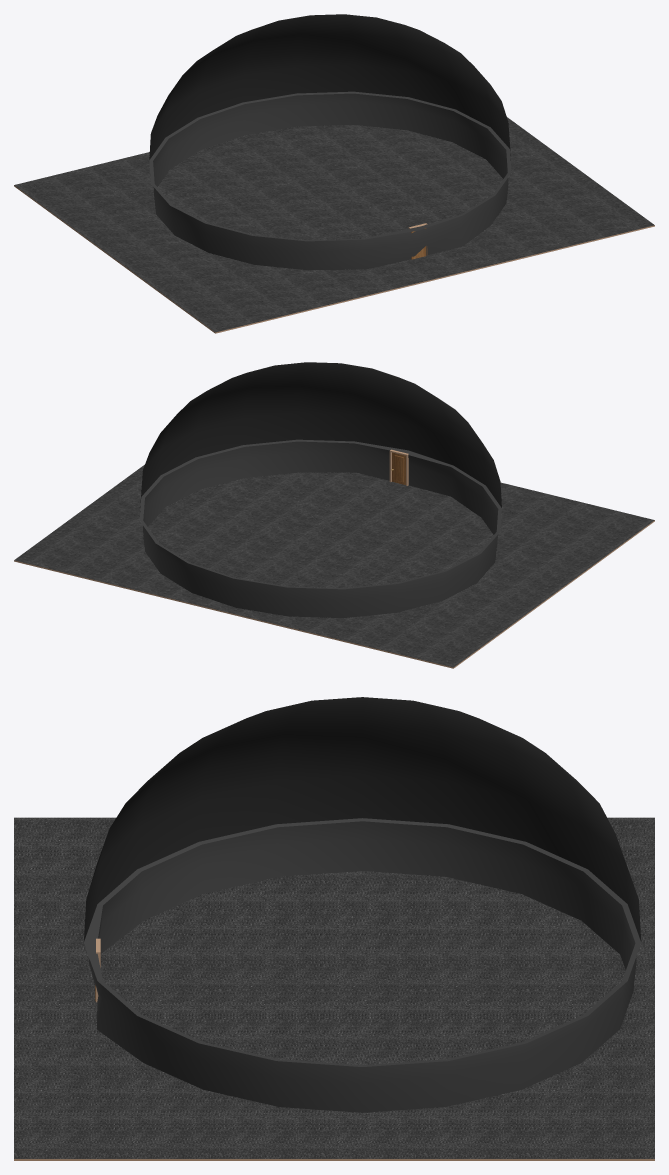
File: astronomy_room.fbx
3 views of the same model, one above another, from view 1: azimuth 30°, elevation 25°; view 2: azimuth 150°, elevation 25°; view 3: azimuth 270°, elevation 25° (orthographic). The views are drawn at different scales.
Parts seen in each view (by area): view 1: pCube12, pSphere3; view 2: pCube12, pSphere3, pCylinder2; view 3: pCube12, pSphere3.
Boxes of the visible parts, left/top/right/bottom form: pCube12: left=14, top=117, right=654, bottom=333; pSphere3: left=149, top=14, right=511, bottom=270; pCube12: left=14, top=464, right=654, bottom=668; pSphere3: left=139, top=362, right=501, bottom=618; pCylinder2: left=389, top=449, right=408, bottom=485; pCube12: left=14, top=817, right=654, bottom=1160; pSphere3: left=84, top=697, right=641, bottom=1112.
Bounding box in the file's own units: 2689 × 965 × 2134.
Materials: 7 (3 with a texture image).
